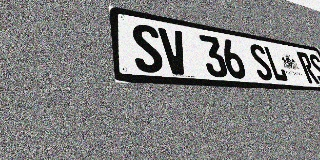3: (199, 34, 229, 78)
6: (218, 38, 248, 79)
L: (263, 45, 289, 82)
R: (296, 51, 320, 84)
S: (131, 22, 165, 74), (247, 43, 275, 81), (307, 53, 320, 85)
V: (158, 27, 191, 75)
